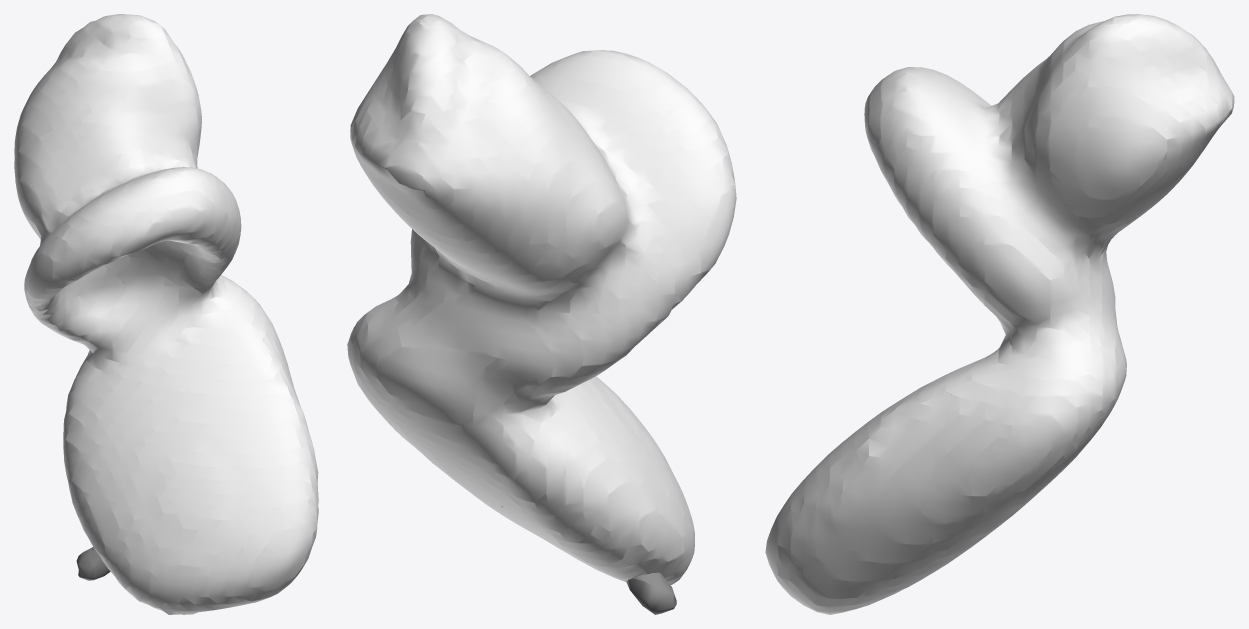
File: toilet.gltf
The picture shows the model from 3 angles, left to right: view 1: azimuth 30°, elevation 25°; view 2: azimuth 150°, elevation 25°; view 3: azimuth 270°, elevation 25°; orthographic projection. The views are drawn at different scales.
Visible parts, largest first — view 1: Layer_3, Layer_4; view 2: Layer_3, Layer_4; view 3: Layer_3.
Part boxes in pixels (<box>): Layer_3: <box>14,14,318,614</box>; Layer_4: <box>76,547,110,580</box>; Layer_3: <box>347,14,736,584</box>; Layer_4: <box>626,572,676,614</box>; Layer_3: <box>765,14,1234,614</box>.
Bounding box in the file's own units: 21.24 × 38.42 × 27.15.
2 materials, 2 textured.
